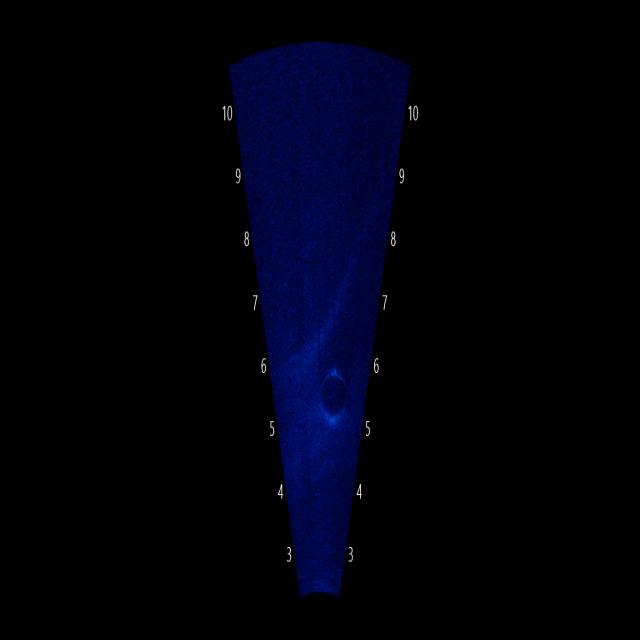circle: (316, 354, 354, 436)
